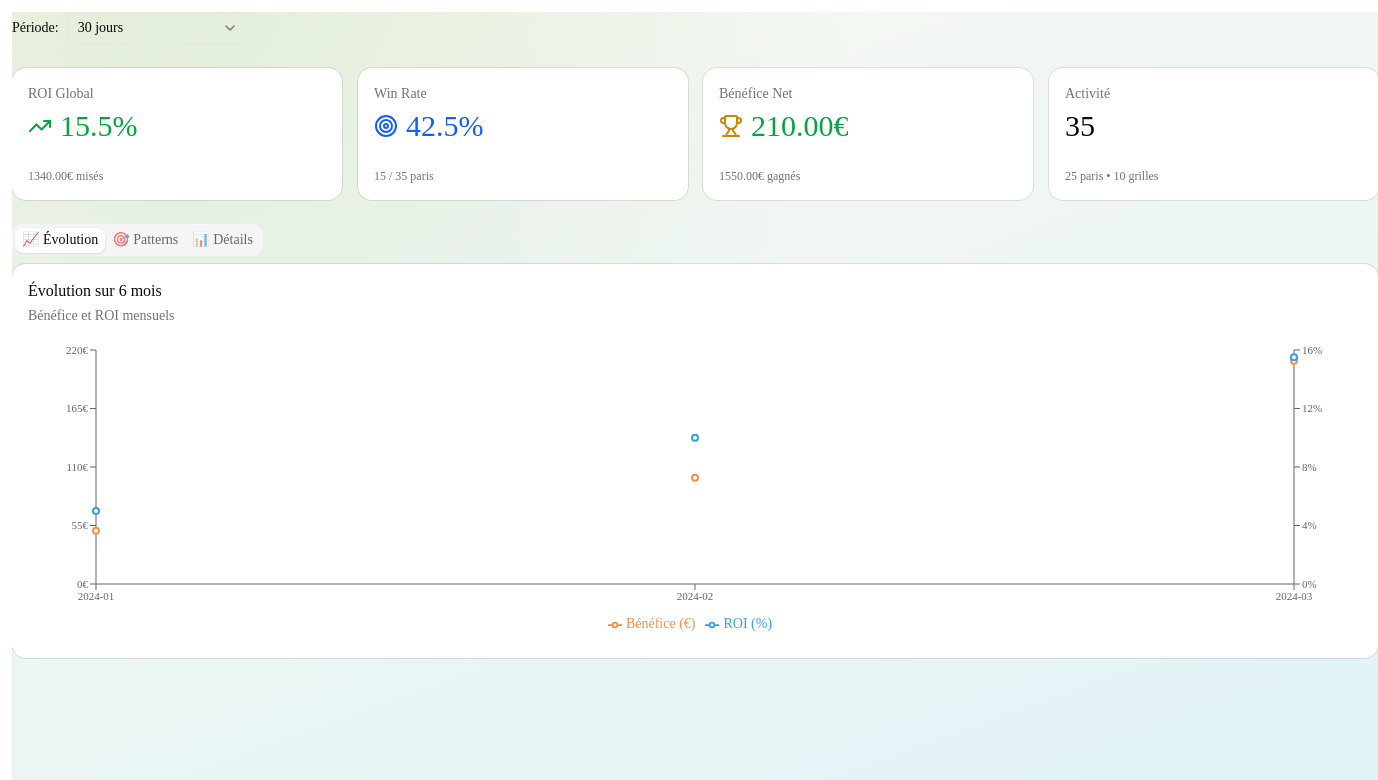
StatsPersonnelles › affiche les recommandations dans tab Patterns
Click the tab "🎯 Patterns": coordinates (145, 240) [105,228,185,252]
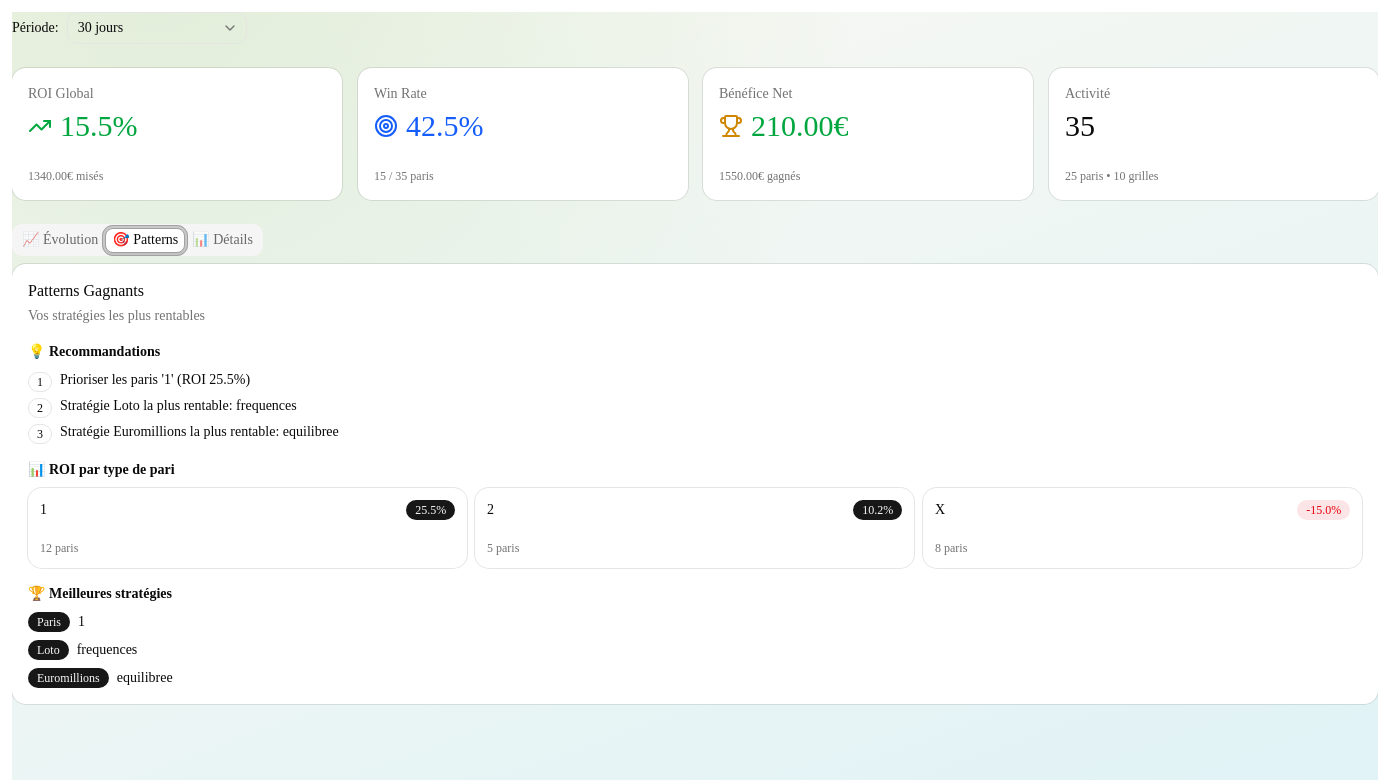
Check: the heading "💡 Recommandations" is shown, box [28,344,160,359]
Check: the text "Prioriser les paris '1' (ROI 25.5%)" is shown, box [60,370,250,390]
Check: the text "Stratégie Loto la plus rentable: frequences" is shown, box [60,396,297,416]
